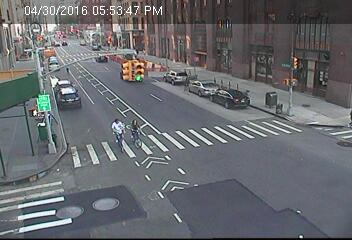neg: (175, 146, 213, 196), (241, 124, 276, 170), (88, 183, 118, 222), (105, 112, 133, 149), (293, 84, 320, 120), (39, 88, 65, 123), (172, 66, 198, 101), (129, 117, 153, 149), (243, 80, 266, 111), (94, 32, 116, 61), (254, 34, 275, 62), (63, 58, 82, 84), (129, 56, 148, 82)
